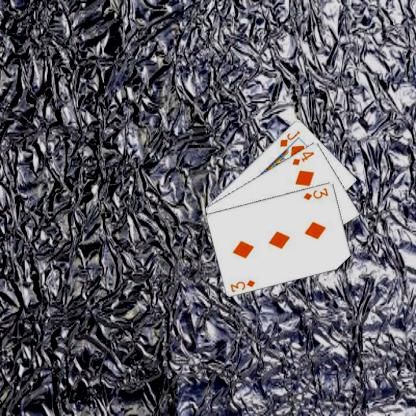3D: (228, 277, 257, 293), (301, 185, 329, 201)
4D: (290, 149, 316, 166)
JD: (277, 128, 301, 148)
